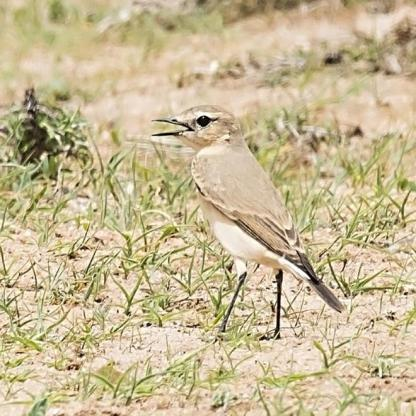Burung: (149, 102, 343, 346)
